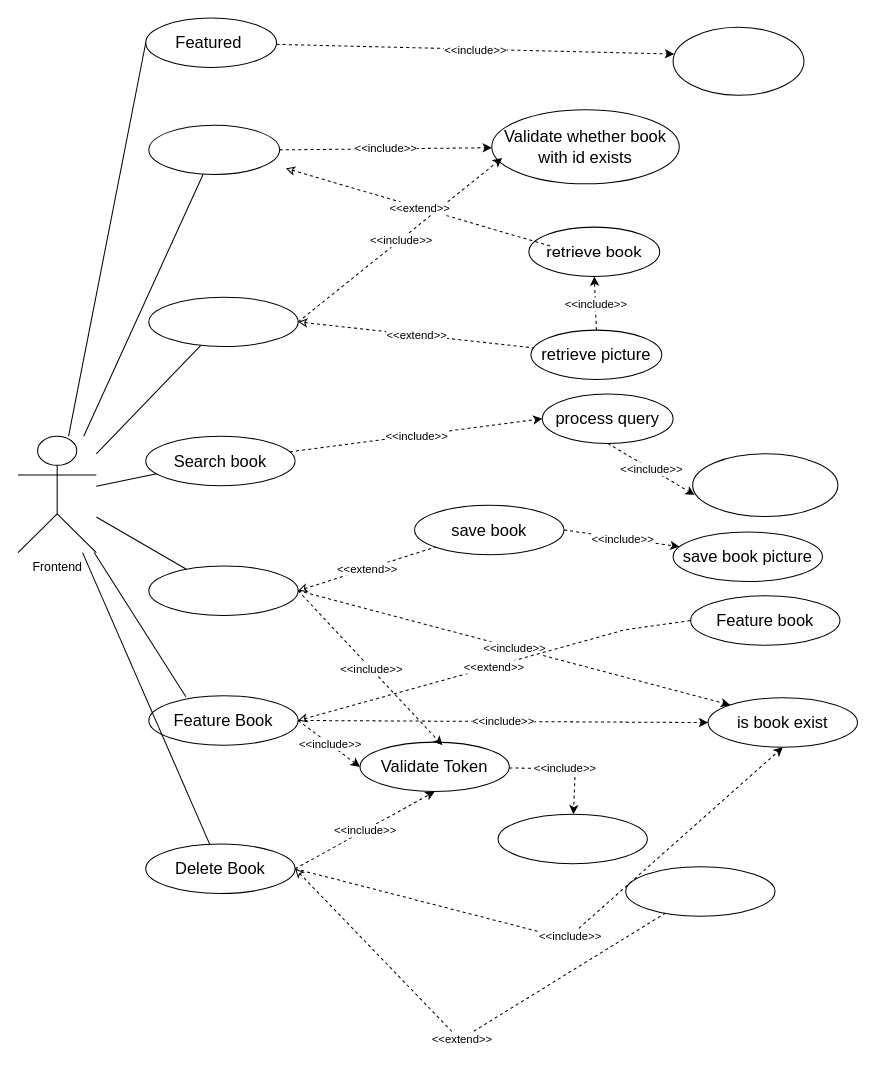
Some shapes in this 876 by 1066 pixel diagram are drawn without their labels. Here are the shapes that lost their labels. From the top down, the box of each, then its label:
(672, 26, 804, 95): retrieve all fetured from db
(148, 124, 280, 175): Book by id
(148, 296, 298, 347): Book Picture by id
(692, 453, 838, 517): retrieve books by query
(148, 565, 298, 615): Add Book
(497, 813, 647, 864): is role ADMIN
(625, 866, 775, 916): remove book
